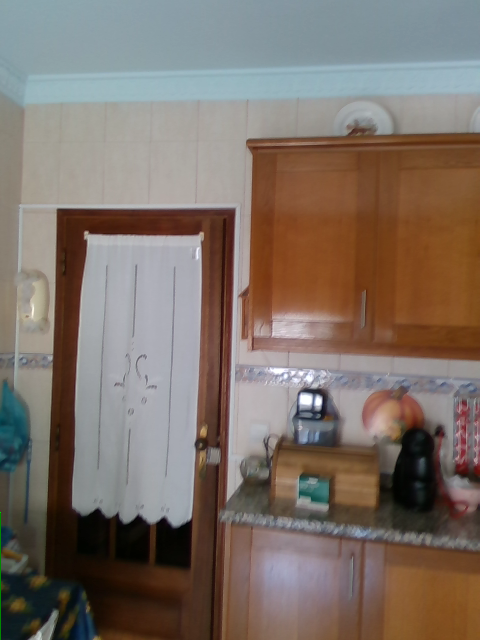closed: (45, 207, 236, 638)
